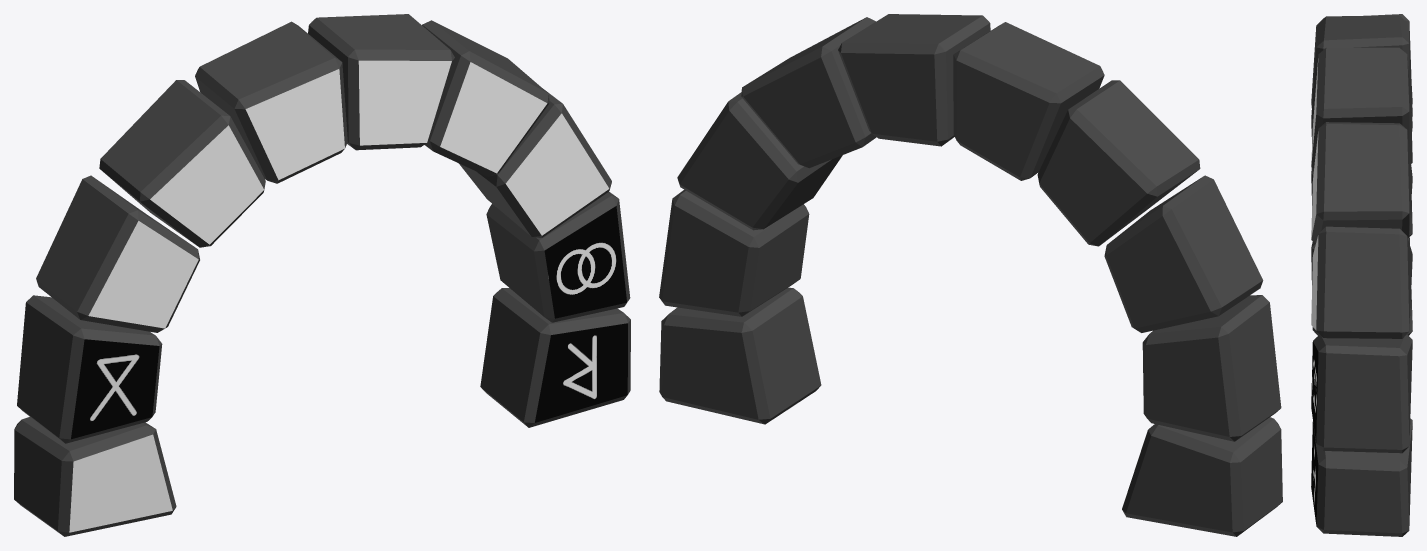
Rendered from stone rune portal.fbx.
3 views of the same model, side by side, from view 1: azimuth 30°, elevation 25°; view 2: azimuth 150°, elevation 25°; view 3: azimuth 270°, elevation 25° (orthographic). The views are drawn at different scales.
Visible parts, largest first — view 1: Cube.005, Cube.004, Cube.006, Cube.003, Cube.011, Cube.002, Cube.007, Cube.010, Cube.008, Cube.009; view 2: Cube.011, Cube.005, Cube.004, Cube.006, Cube.003, Cube.002, Cube.007, Cube.010, Cube.009, Cube.008; view 3: Cube.010, Cube.009, Cube.008, Cube.011, Cube.007, Cube.006, Cube.005, Cube.002, Cube.003.
Boxes of the visible parts, x1=… form: Cube.005: x1=99, y1=80, x2=265, y2=247; Cube.004: x1=36, y1=175, x2=199, y2=332; Cube.006: x1=195, y1=21, x2=347, y2=183; Cube.003: x1=17, y1=295, x2=162, y2=443; Cube.011: x1=480, y1=288, x2=630, y2=427; Cube.002: x1=14, y1=417, x2=176, y2=536; Cube.007: x1=308, y1=14, x2=454, y2=150; Cube.010: x1=486, y1=192, x2=630, y2=322; Cube.008: x1=422, y1=20, x2=549, y2=176; Cube.009: x1=459, y1=89, x2=611, y2=237; Cube.011: x1=659, y1=287, x2=821, y2=424; Cube.005: x1=1037, y1=80, x2=1200, y2=246; Cube.004: x1=1104, y1=175, x2=1263, y2=332; Cube.006: x1=953, y1=22, x2=1104, y2=180; Cube.003: x1=1142, y1=295, x2=1281, y2=441; Cube.002: x1=1122, y1=417, x2=1282, y2=536; Cube.007: x1=838, y1=14, x2=990, y2=146; Cube.010: x1=659, y1=189, x2=809, y2=316; Cube.009: x1=677, y1=92, x2=842, y2=230; Cube.008: x1=741, y1=17, x2=876, y2=168; Cube.010: x1=1311, y1=334, x2=1412, y2=453; Cube.009: x1=1311, y1=226, x2=1412, y2=338; Cube.008: x1=1311, y1=122, x2=1412, y2=243; Cube.011: x1=1311, y1=418, x2=1412, y2=536; Cube.007: x1=1311, y1=47, x2=1412, y2=168; Cube.006: x1=1311, y1=15, x2=1412, y2=119; Cube.005: x1=1311, y1=14, x2=1412, y2=116; Cube.002: x1=1311, y1=237, x2=1412, y2=335; Cube.003: x1=1311, y1=168, x2=1412, y2=237.
Size of the model in its own units: 1231 by 856 by 211.
